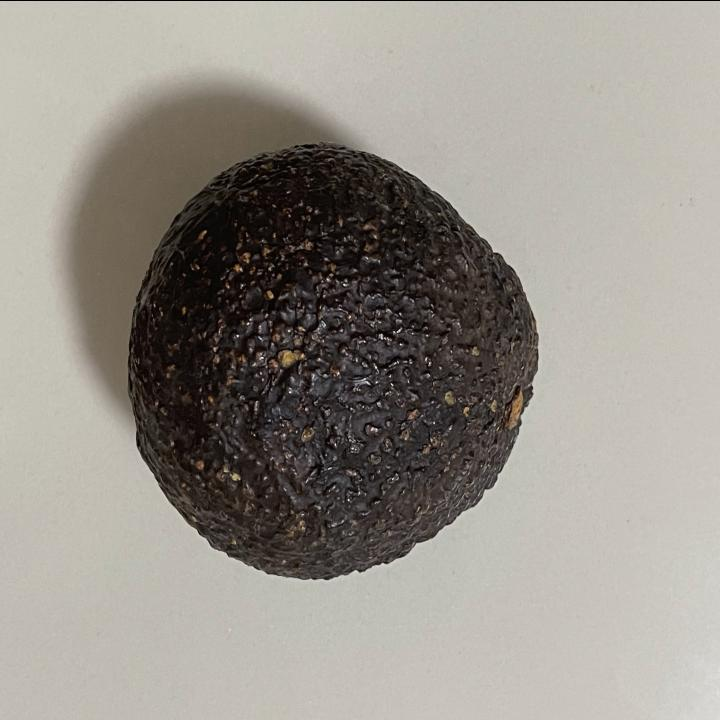Level3: (120, 128, 556, 596)
